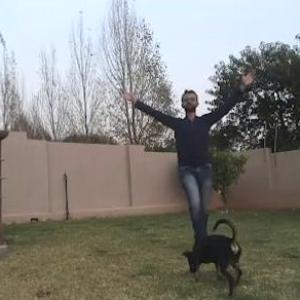takeoff: (118, 45, 299, 258)
